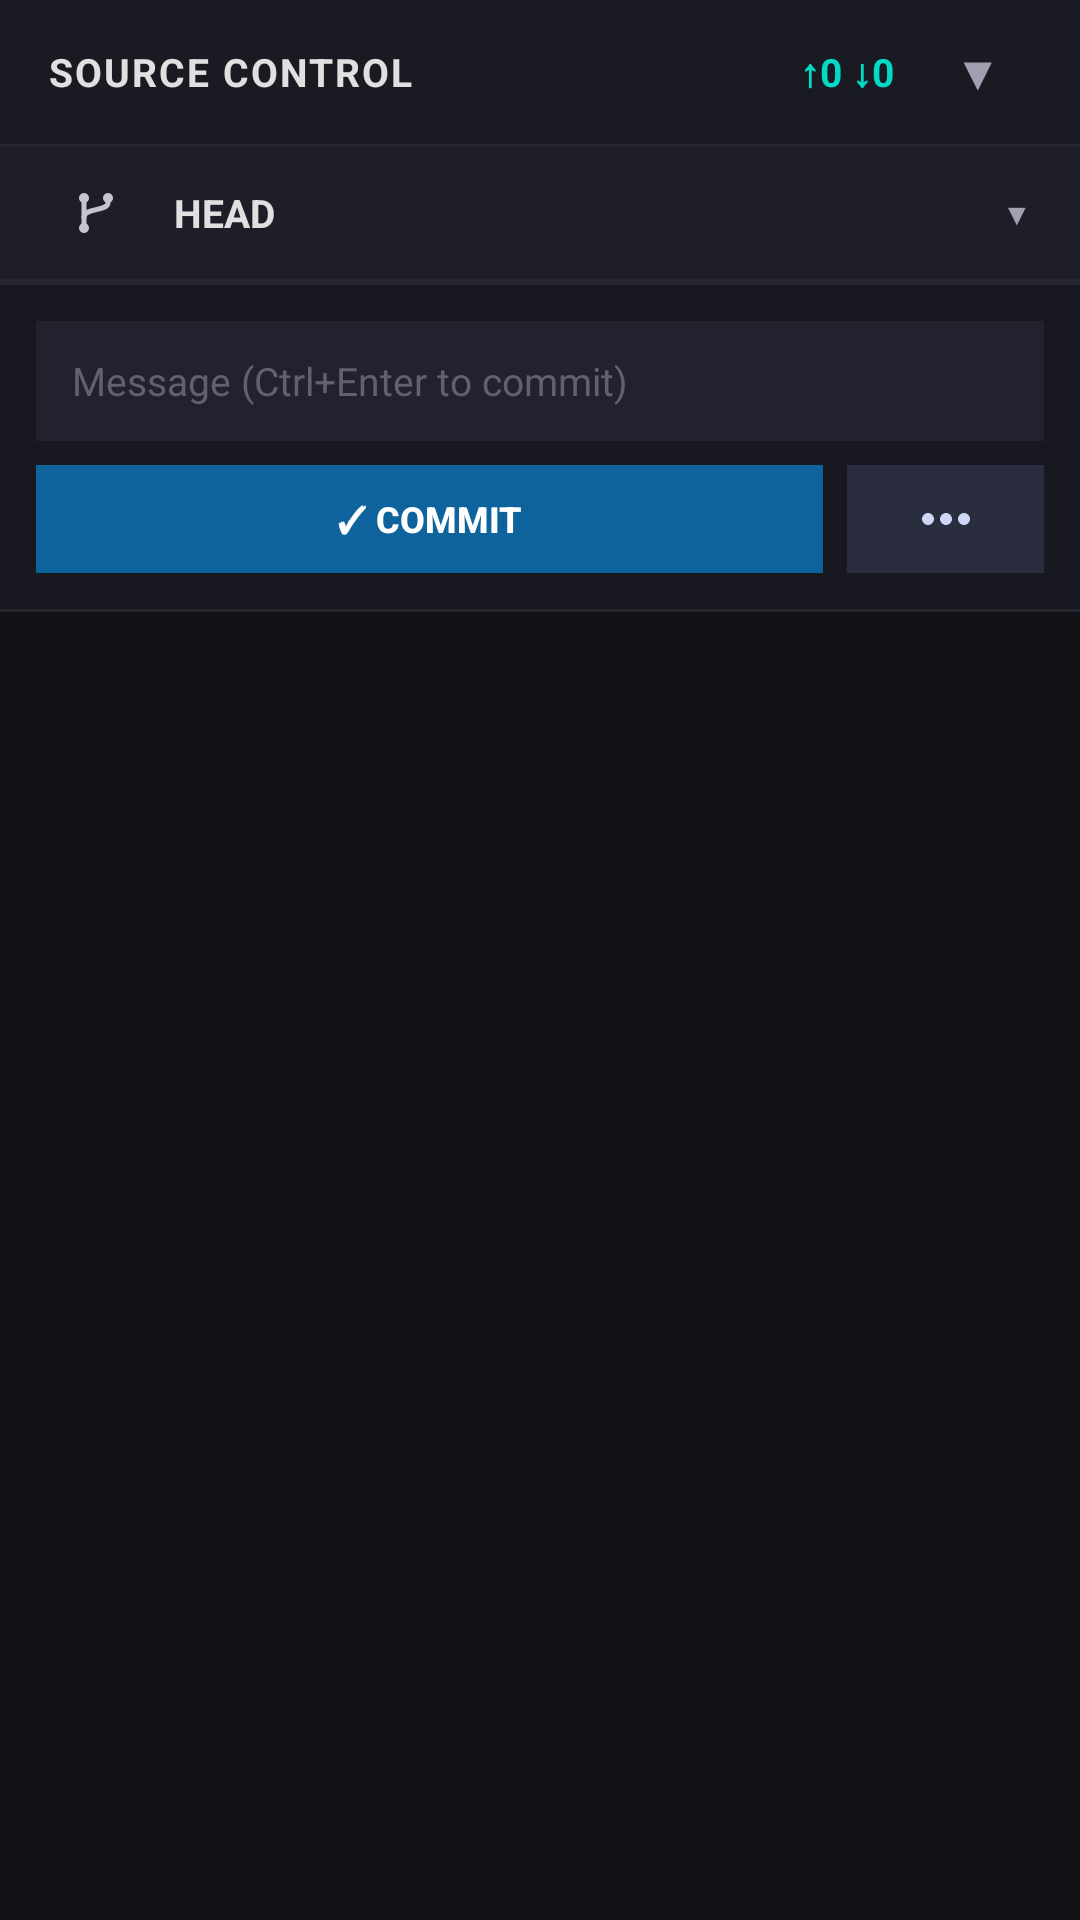

Icon bounding boxes for this 1080px×1920px phone screenshot, format region(x1, y1, x2, y2):
Branch Icon: region(79, 193, 113, 233)
